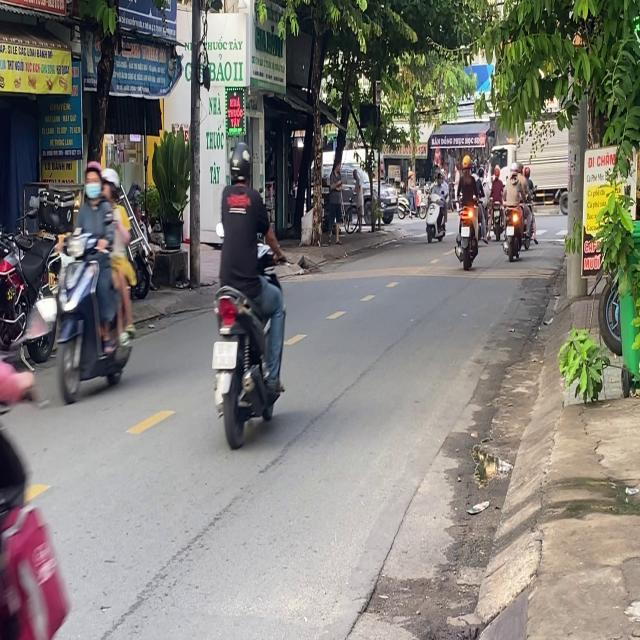helmet: (227, 142, 252, 186), (82, 159, 103, 201), (100, 167, 120, 203)
licenseplate: (208, 138, 288, 446), (51, 157, 138, 402)
nohelmet: (212, 340, 236, 368)
